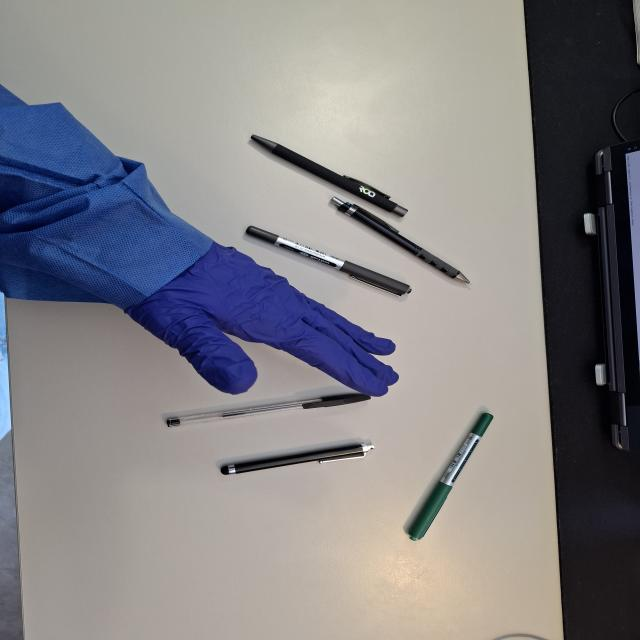glove_on: (119, 240, 403, 400)
